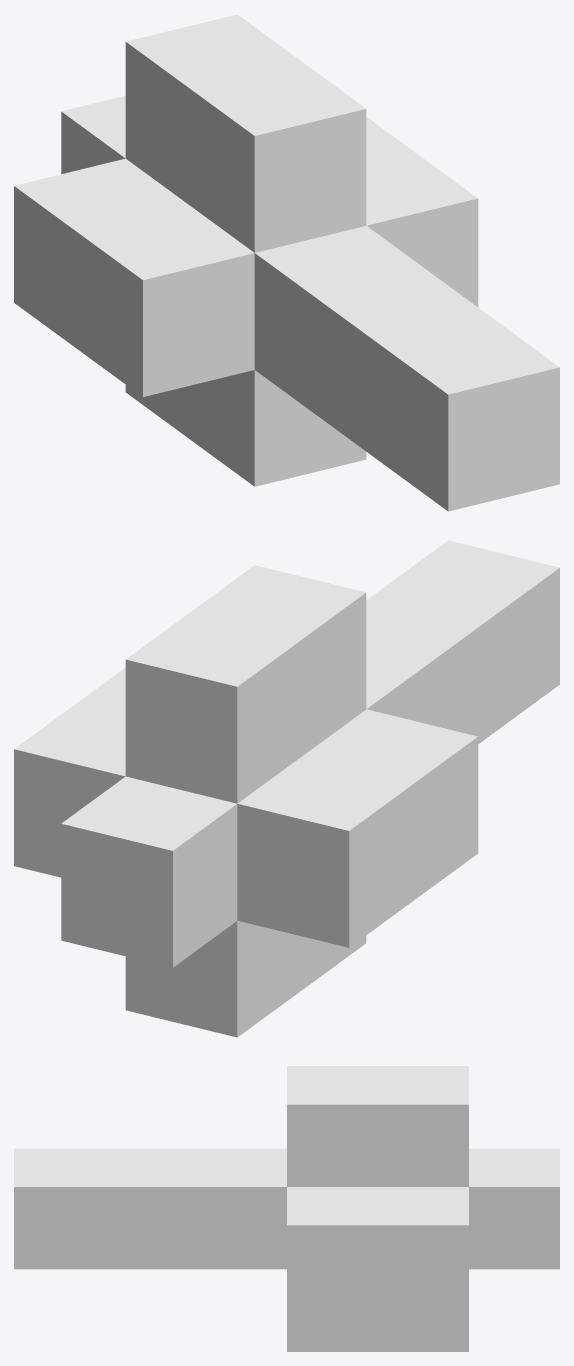
The model's file is RegularProjectile.FBX.
3 views of the same model, one above another, from view 1: azimuth 30°, elevation 25°; view 2: azimuth 150°, elevation 25°; view 3: azimuth 270°, elevation 25° (orthographic). The views are drawn at different scales.
Visible parts, largest first — view 1: RegularProjectile; view 2: RegularProjectile; view 3: RegularProjectile.
Boxes of the visible parts, <box> form: RegularProjectile: <box>14,14,559,511</box>; RegularProjectile: <box>14,540,559,1037</box>; RegularProjectile: <box>14,1066,559,1351</box>.
Size of the model in its own units: 3 by 6 by 3.
Materials: 1 (1 with a texture image).
